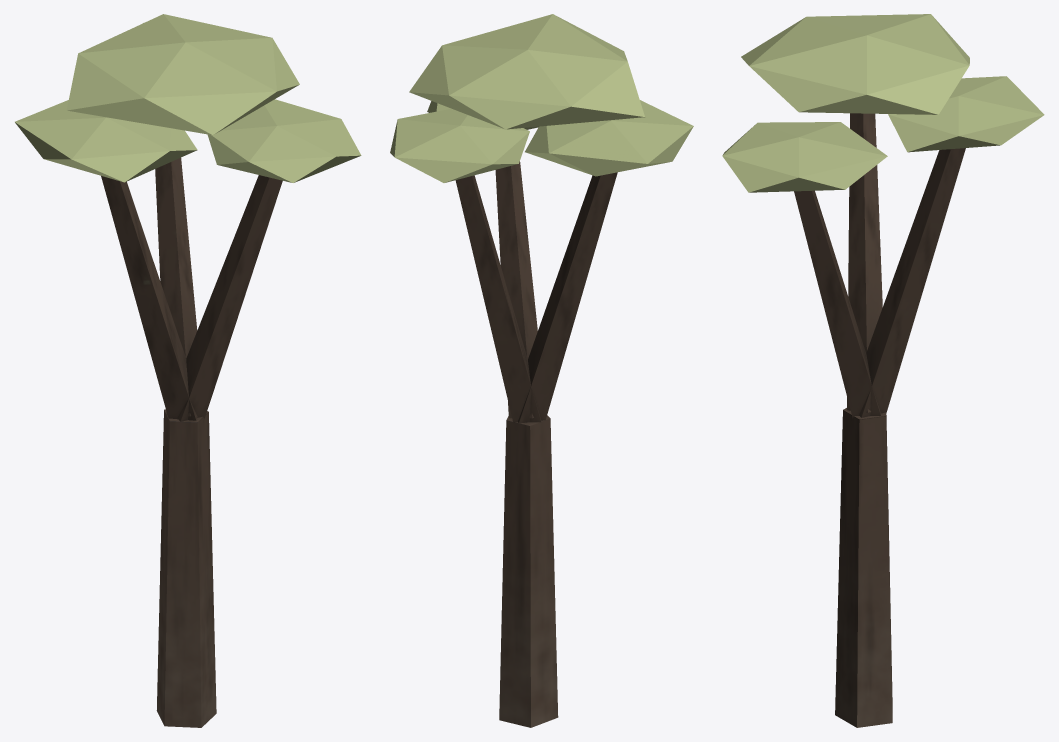
File: arv_acacia_1.glb
3 renders of one model, left to right at view 1: azimuth 30°, elevation 25°; view 2: azimuth 150°, elevation 25°; view 3: azimuth 270°, elevation 25°, orthographic. The views are drawn at different scales.
Parts seen in each view (by area): view 1: arv_acacia_1; view 2: arv_acacia_1; view 3: arv_acacia_1.
Boxes of the visible parts, x1,y1,x2,y2 form: arv_acacia_1: (15, 14, 361, 727); arv_acacia_1: (390, 14, 693, 727); arv_acacia_1: (722, 14, 1044, 727).
Bounding box in the file's own units: 0.7847 × 1.88 × 0.8093.
Materials: 2 (1 with a texture image).
